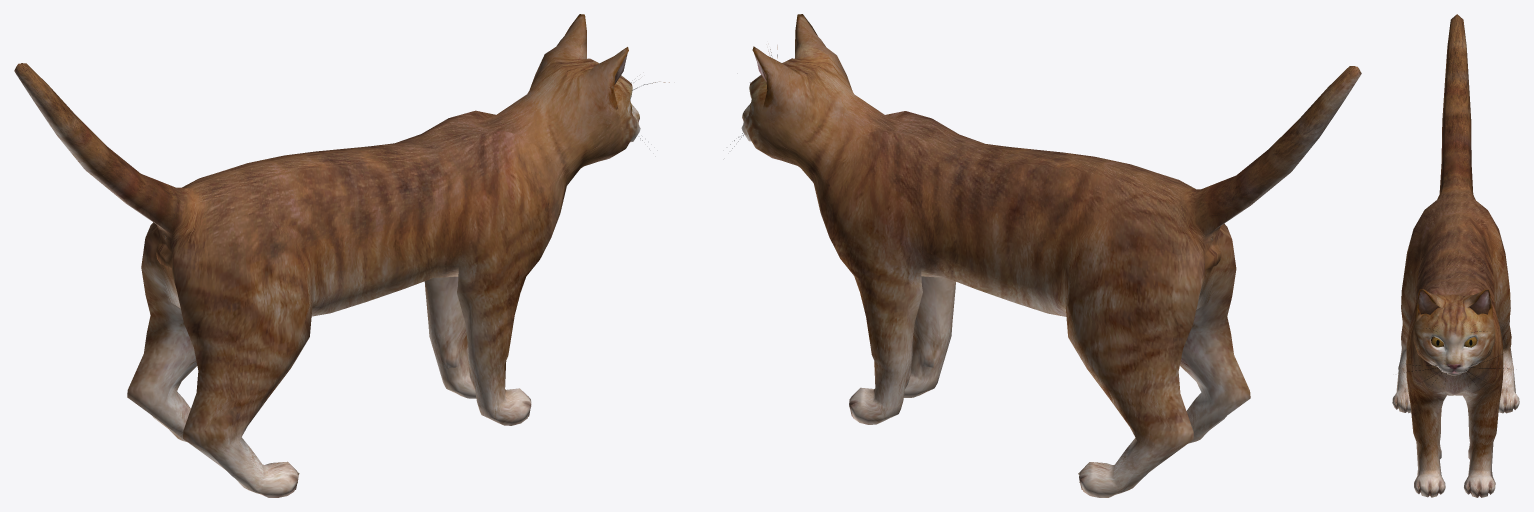
The model's file is cat.obj.
The picture shows the model from 3 angles, left to right: view 1: azimuth 30°, elevation 25°; view 2: azimuth 150°, elevation 25°; view 3: azimuth 270°, elevation 25°; orthographic projection. The views are drawn at different scales.
Parts seen in each view (by area): view 1: default_object_001; view 2: default_object_001; view 3: default_object_001.
Part boxes in pixels (x1=…): default_object_001: x1=14, y1=14, x2=669, y2=497; default_object_001: x1=730, y1=14, x2=1361, y2=497; default_object_001: x1=1392, y1=14, x2=1519, y2=497.
Bounding box in the file's own units: 65.64 × 45.41 × 16.75.
Materials: 1 (1 with a texture image).
